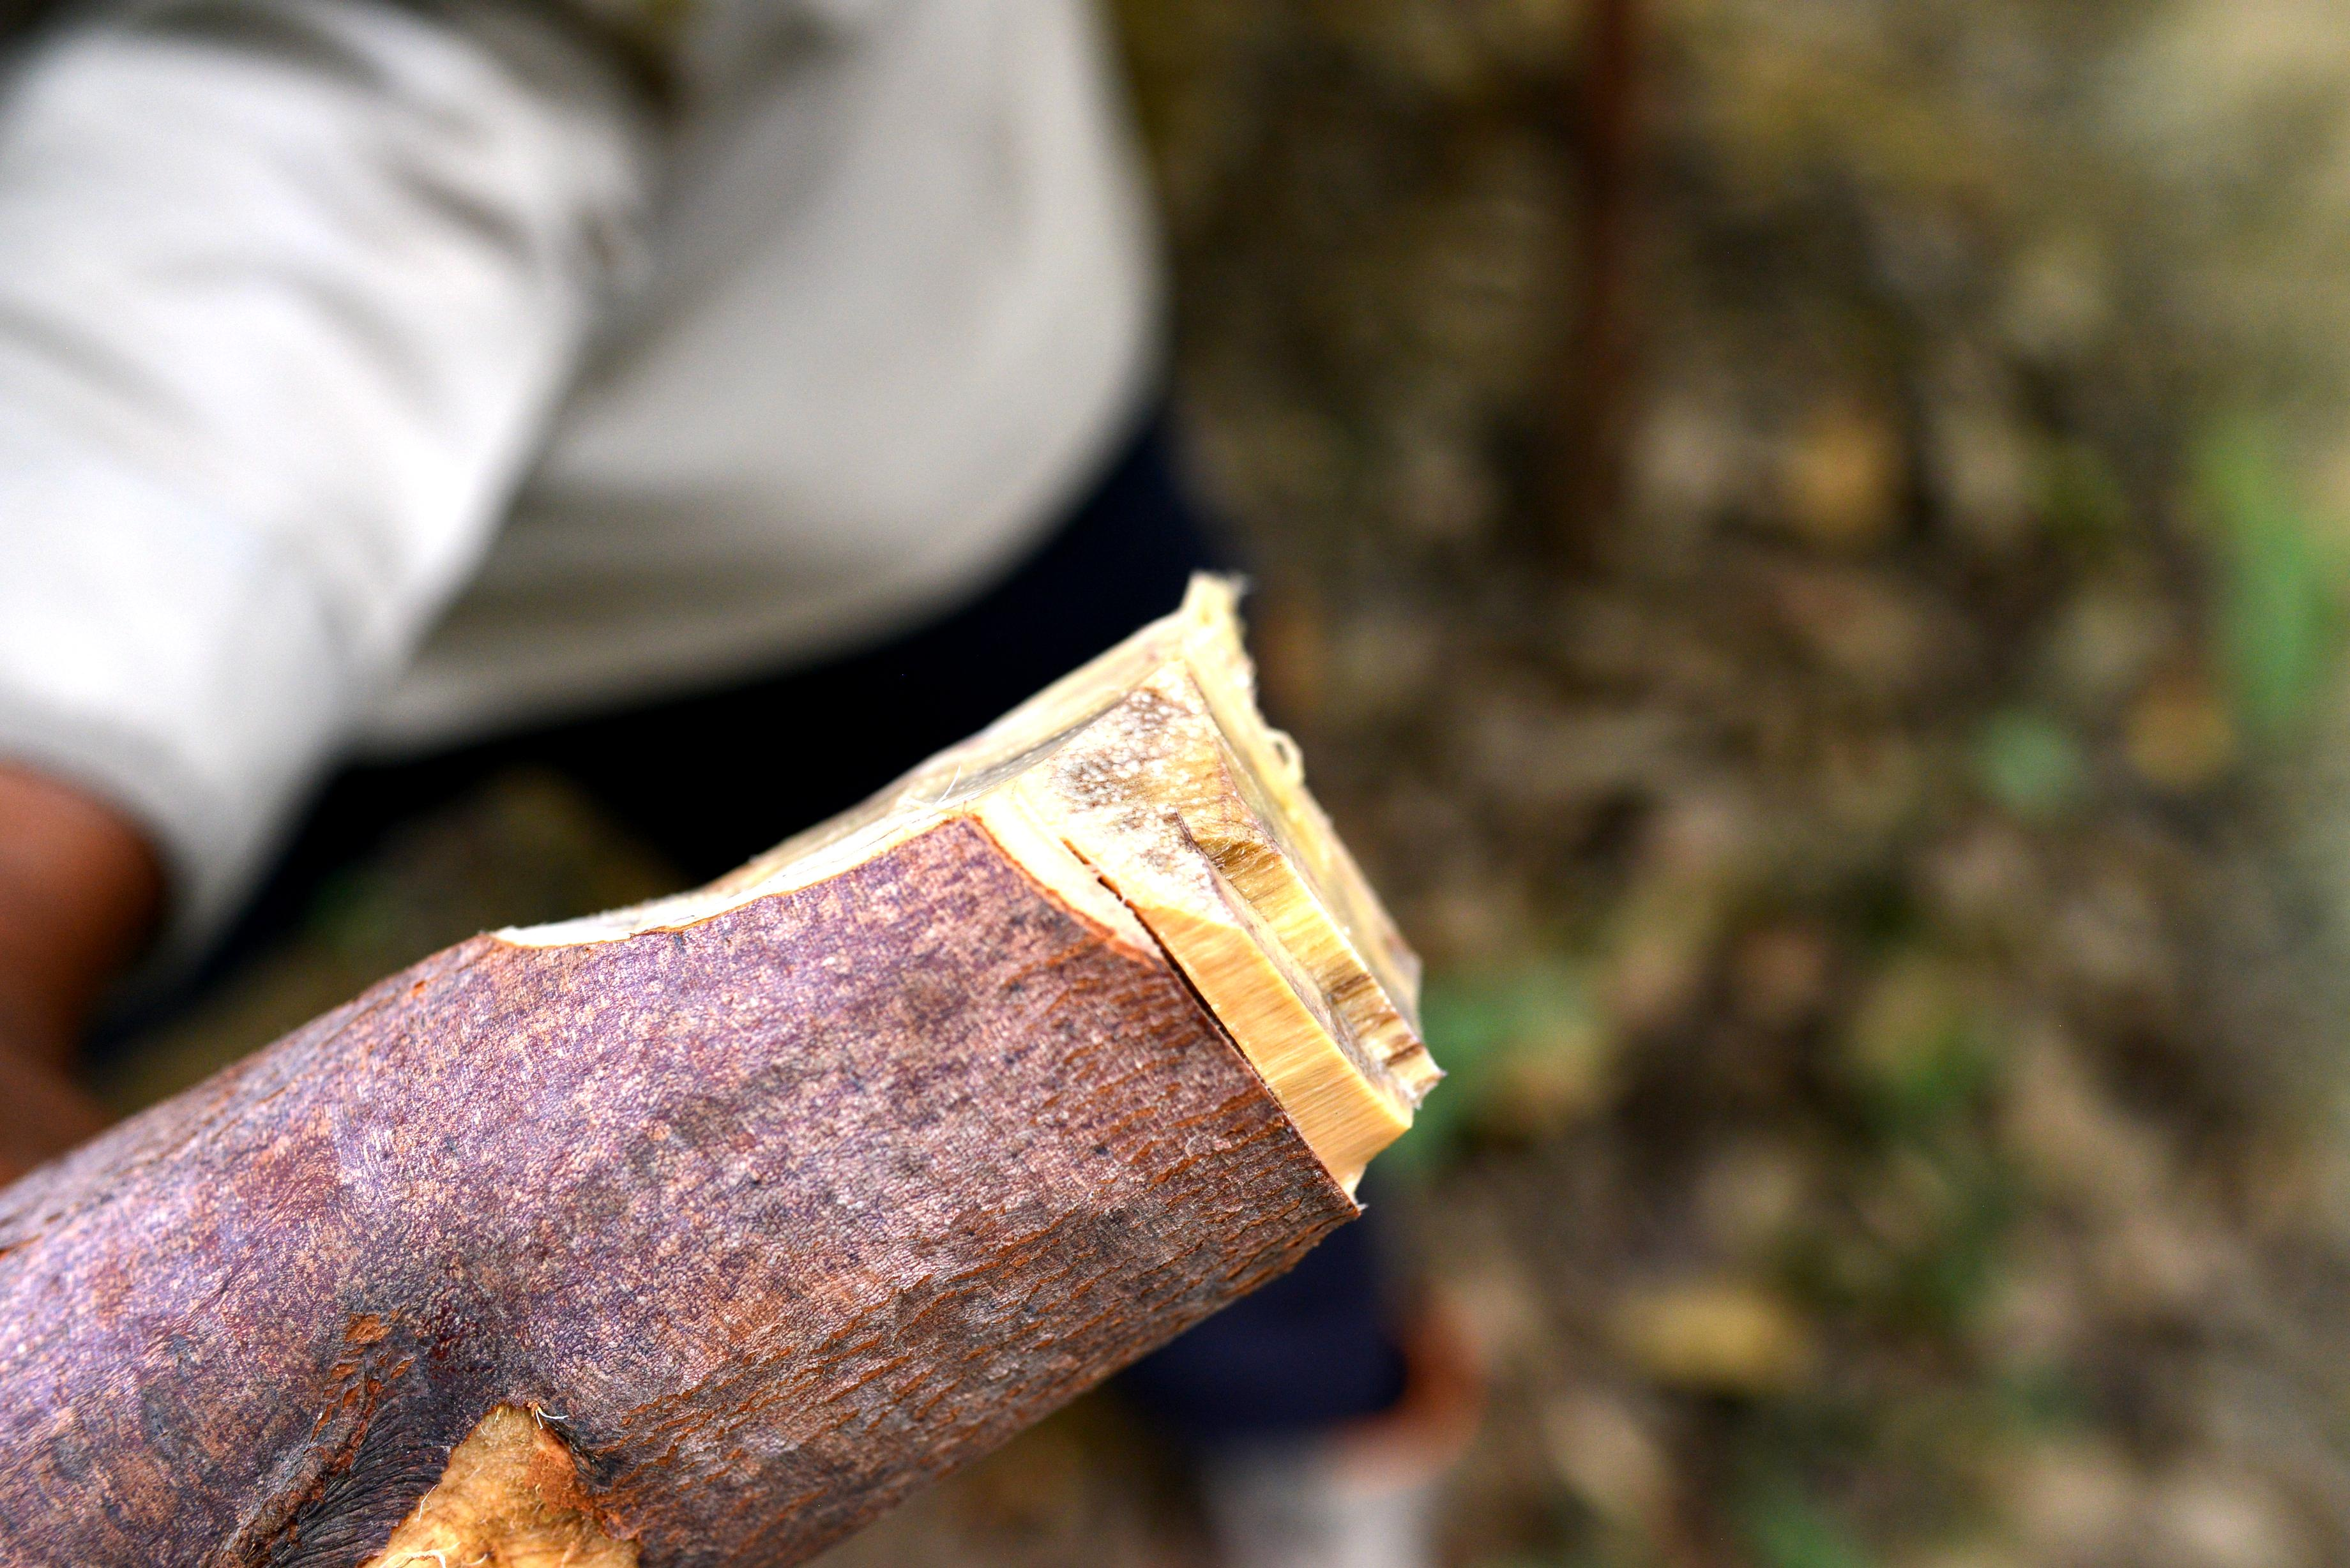Ralstonia: (1000, 661, 1294, 952), (1329, 939, 1444, 1123)
